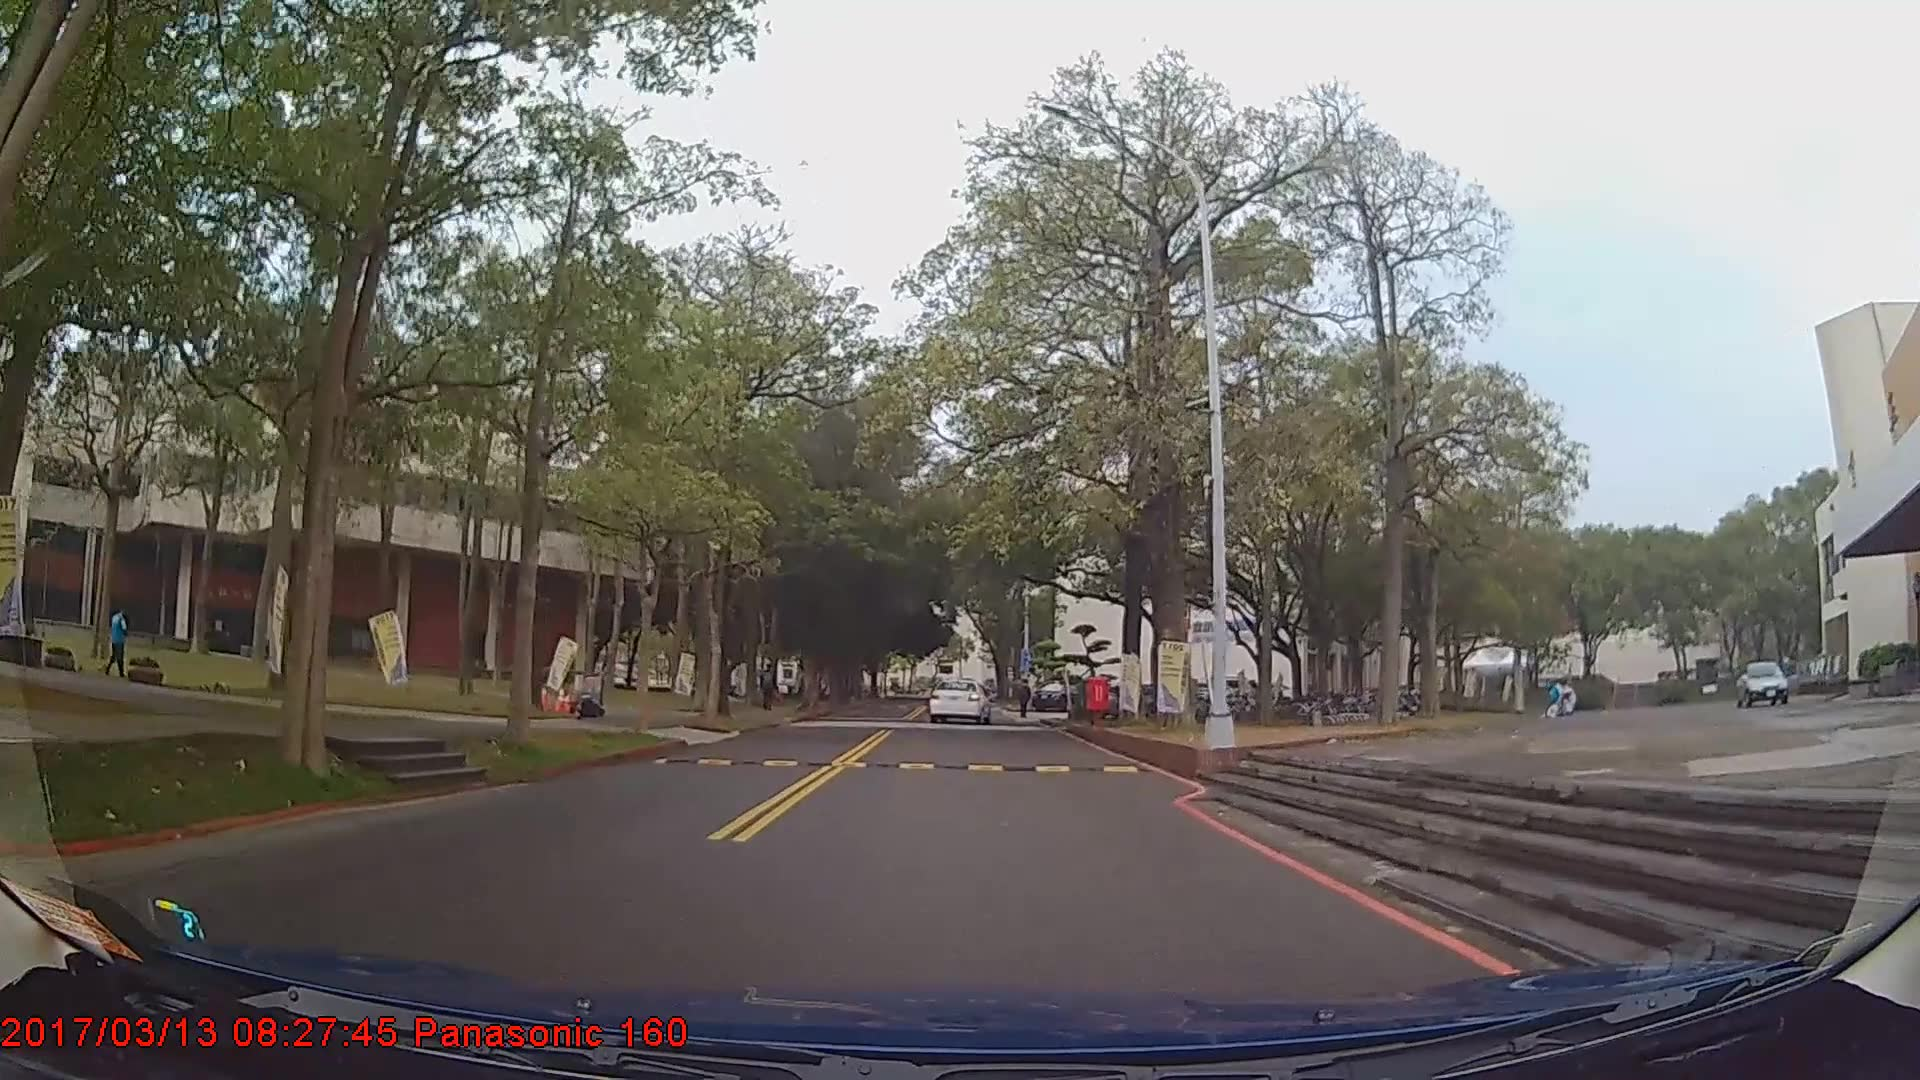pedestrian: (107, 604, 131, 681), (756, 664, 778, 713)
vehicle: (1733, 655, 1805, 706), (928, 678, 992, 724)
